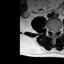CCS_normal: (52, 28, 54, 38)
LFS_stenosis: (56, 27, 59, 33)
LLS_stenosis: (54, 28, 56, 35)
RFS_normal: (48, 26, 50, 33)
RLS_stenosis: (50, 28, 52, 34)
